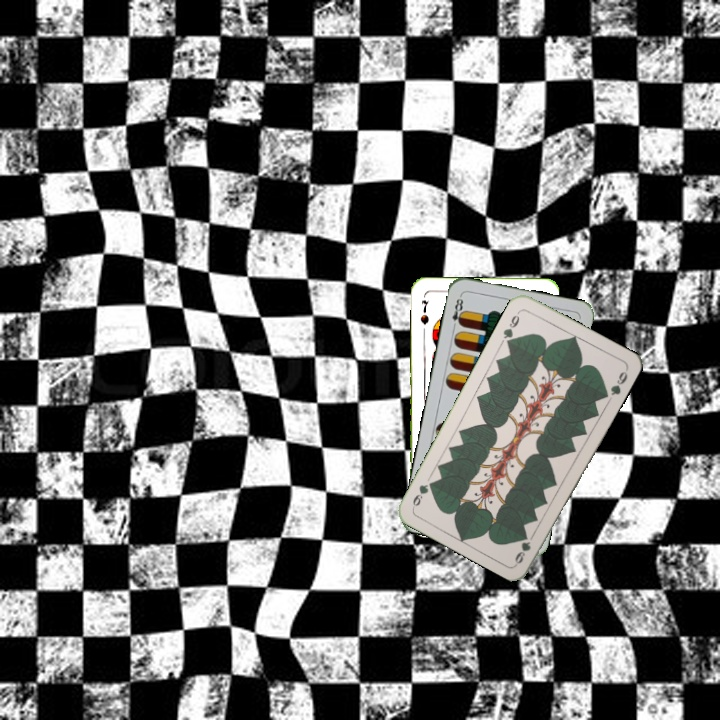E8: (448, 291, 467, 332)
G9: (499, 307, 523, 347), (511, 533, 534, 566)
S7: (416, 296, 432, 327)
